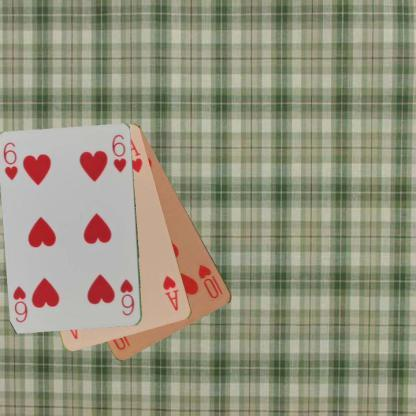10h: (196, 262, 224, 300)
6h: (1, 140, 20, 182), (117, 276, 136, 317)
Ah: (160, 272, 180, 312)
